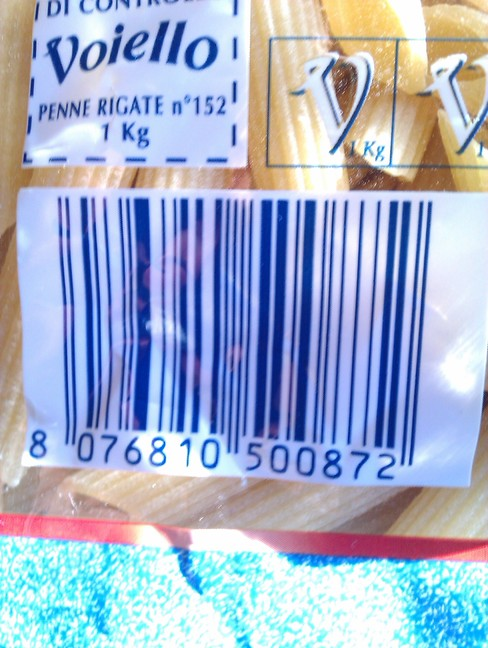barcode: (17, 184, 464, 491)
